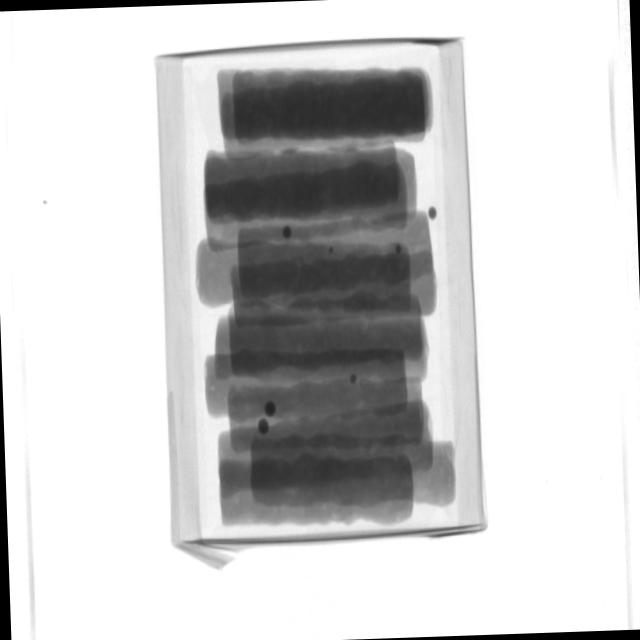ym: (257, 419, 269, 436), (266, 399, 278, 415), (283, 225, 293, 239), (429, 207, 437, 219), (395, 244, 403, 254), (351, 376, 359, 385), (329, 248, 334, 253)
